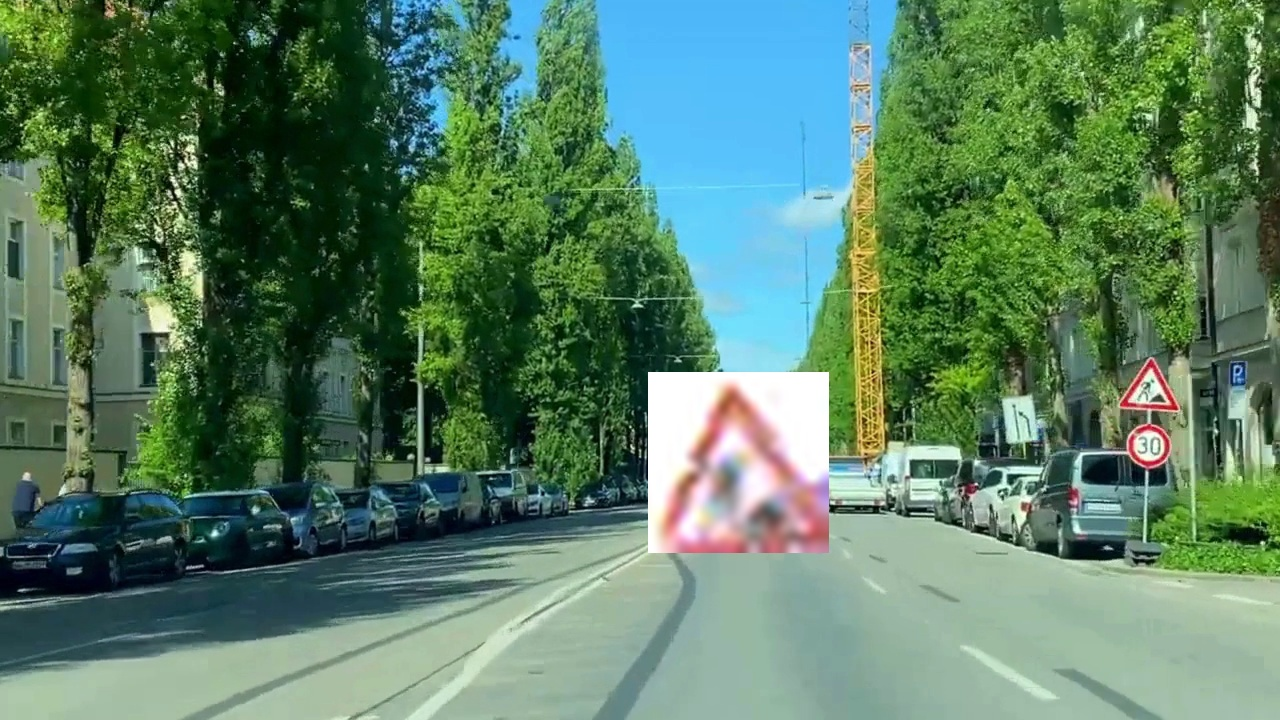Road work: (648, 372, 829, 553)
